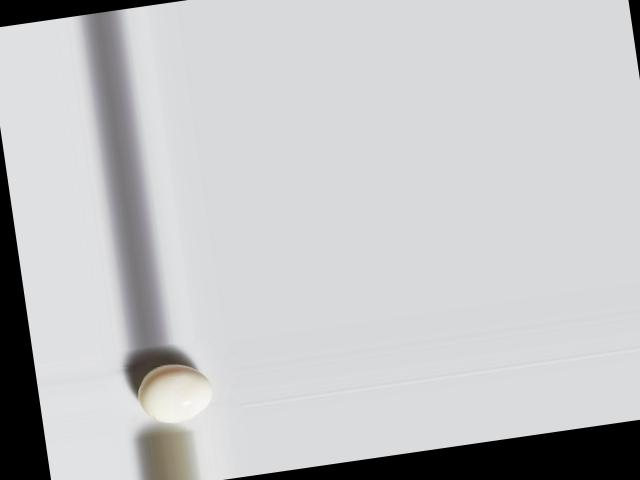egg: (133, 358, 214, 427)
